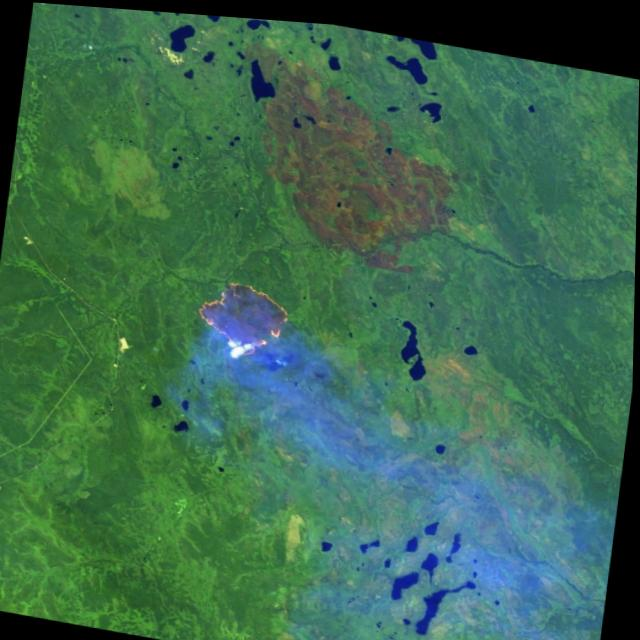fire: (184, 267, 302, 366)
